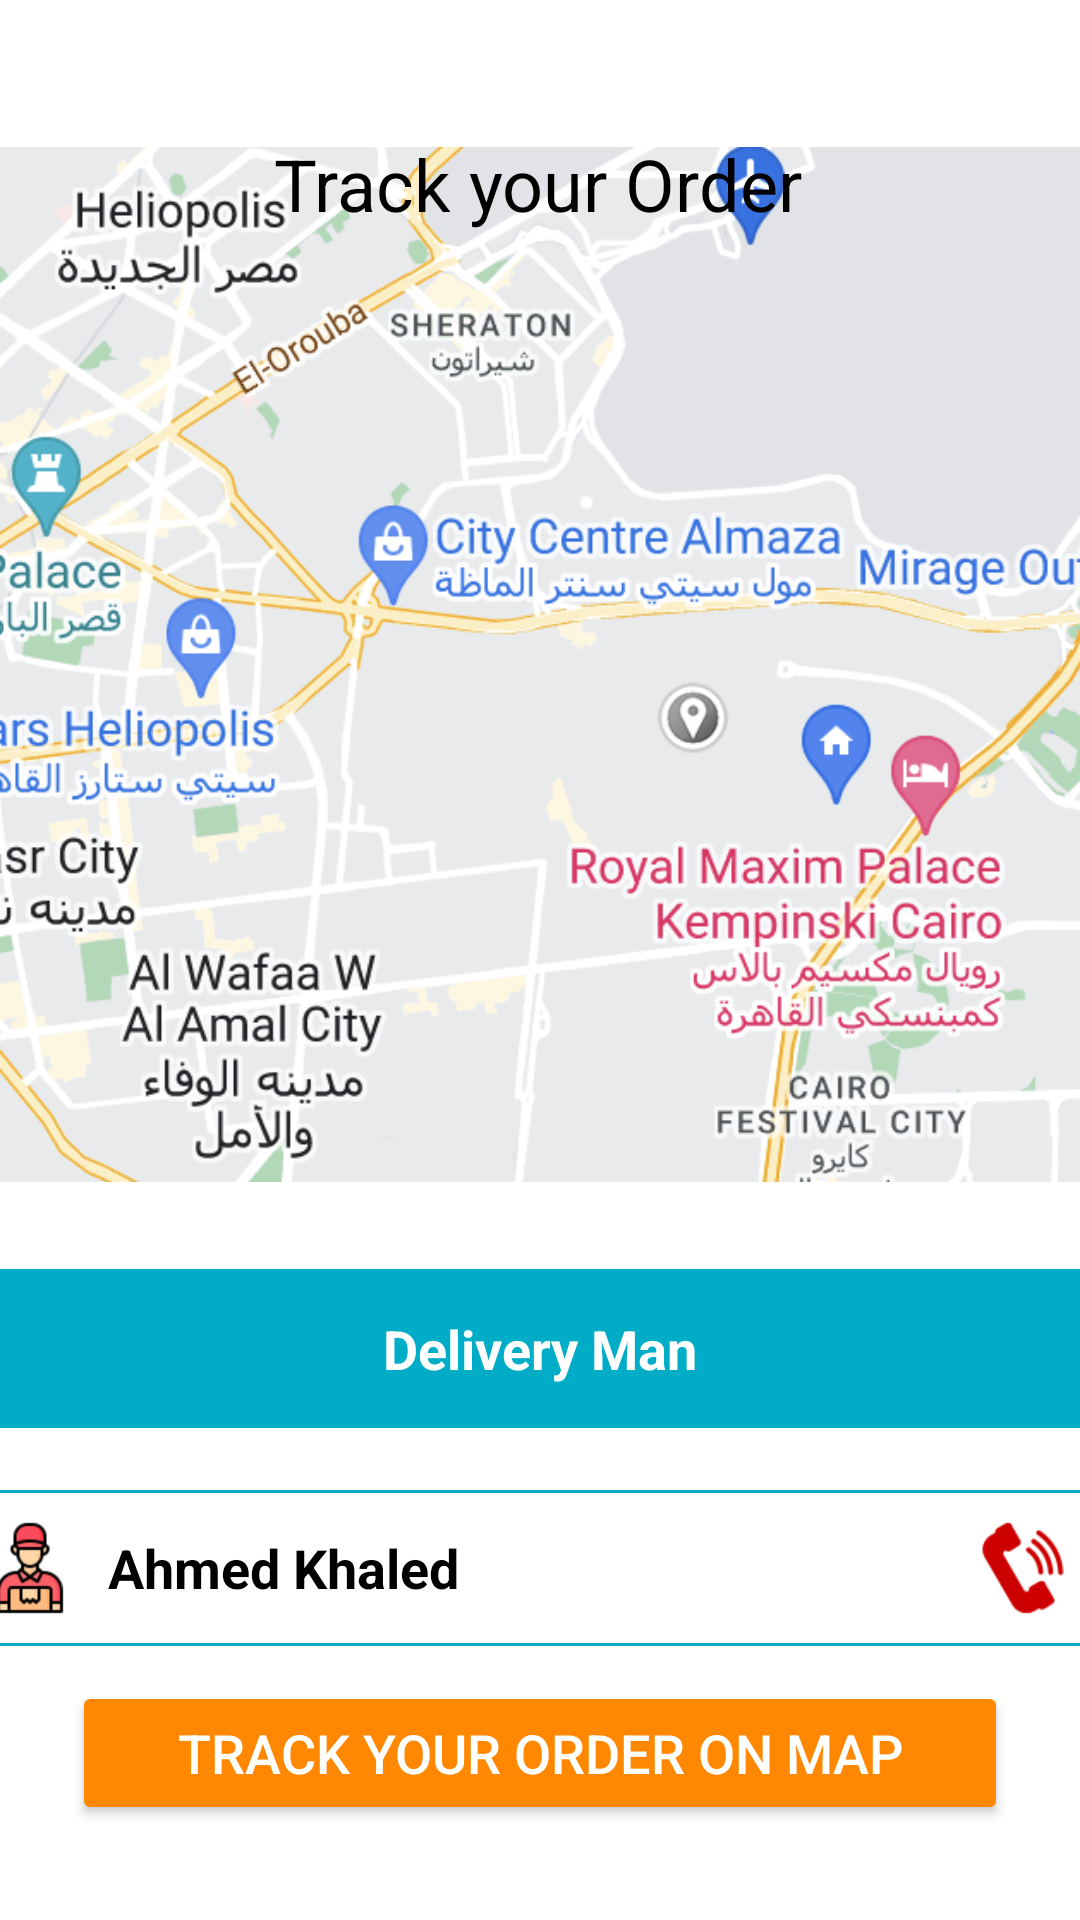

Where icons sit on this 1080px x 1920px app screen, as {"left": x1, "top": y1, "right": x2, "bottom": y2}:
phonecall: {"left": 982, "top": 1522, "right": 1064, "bottom": 1614}
